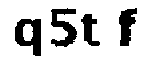5: (48, 5, 81, 50)
f: (116, 6, 141, 53)
q: (10, 17, 47, 59)
t: (80, 12, 105, 51)
